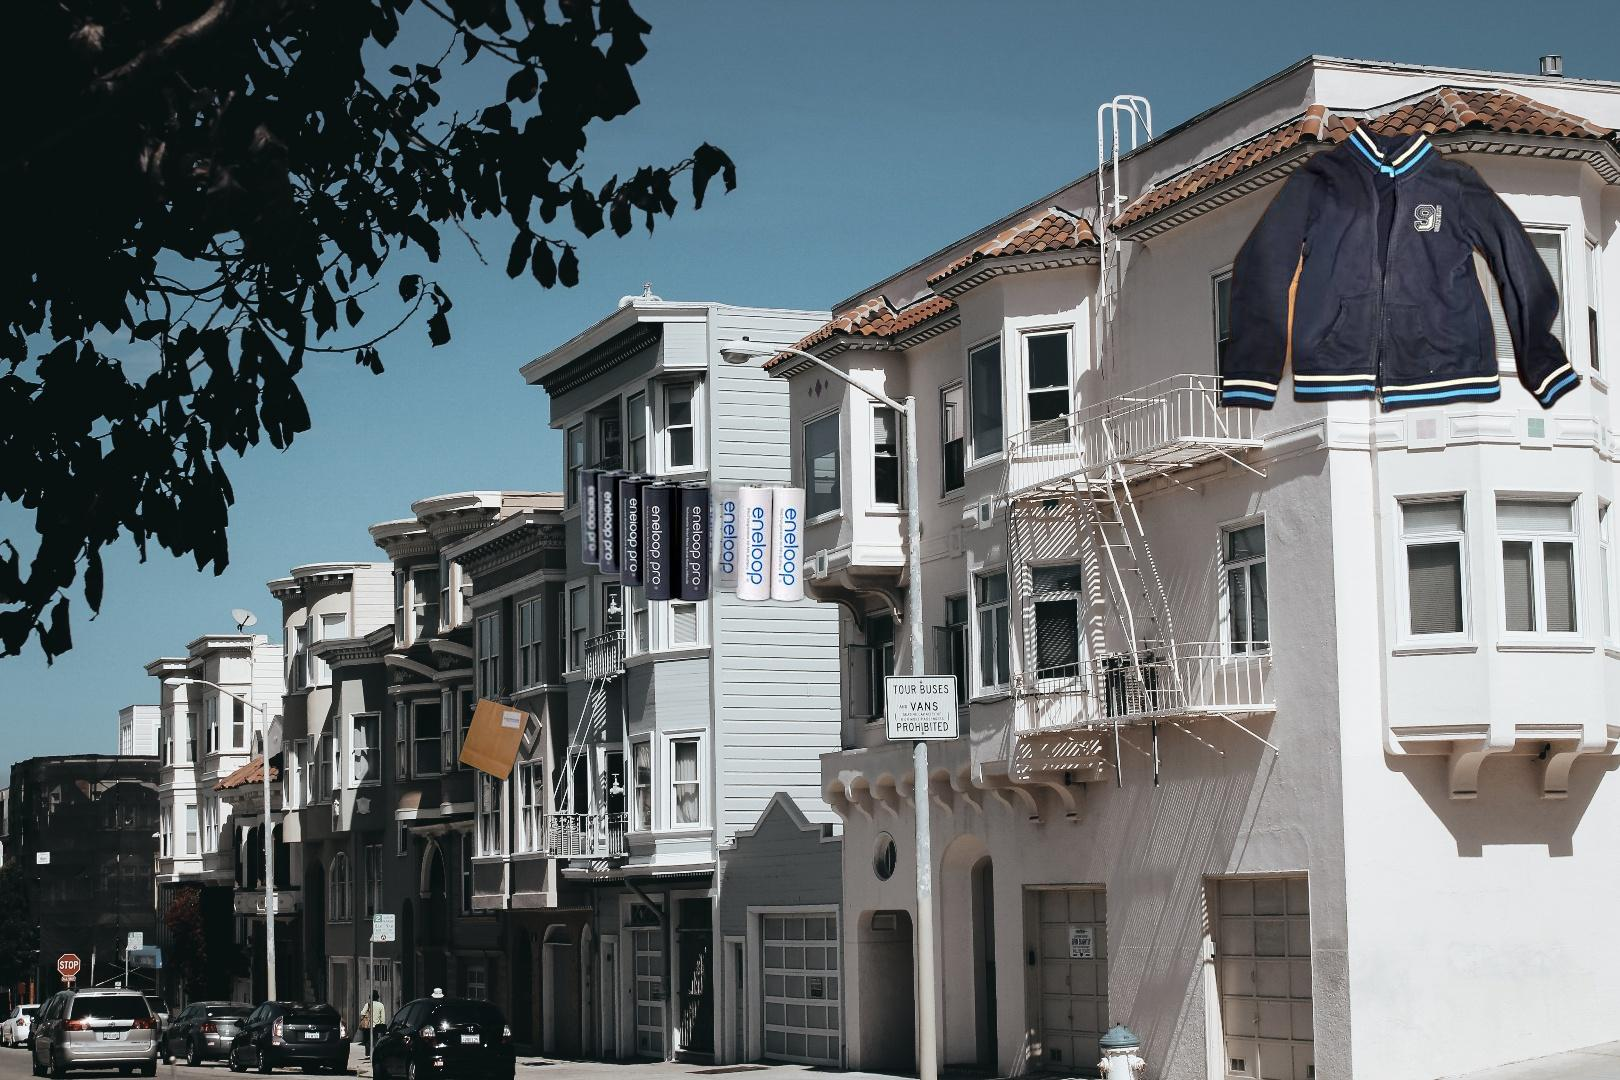battery: (577, 465, 809, 605)
clothes: (1219, 119, 1584, 417)
paper-bag: (454, 670, 533, 783)
